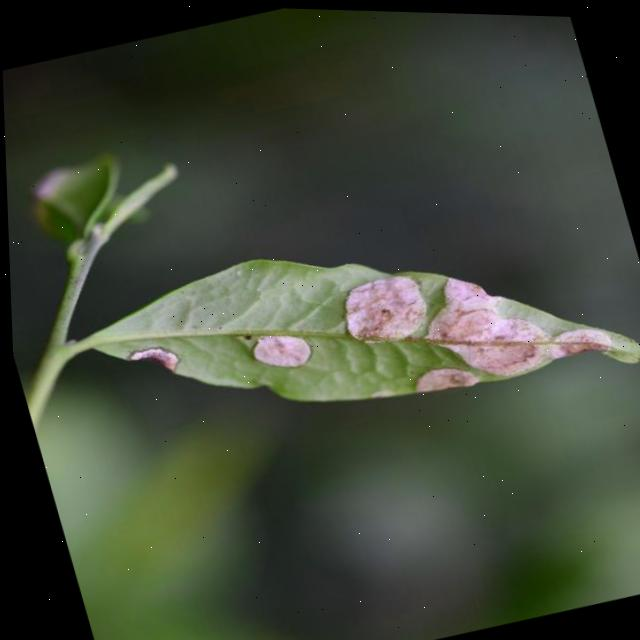Tea cake: (450, 252, 623, 393), (326, 270, 432, 359), (117, 337, 188, 392), (244, 326, 306, 384), (414, 356, 485, 406)
